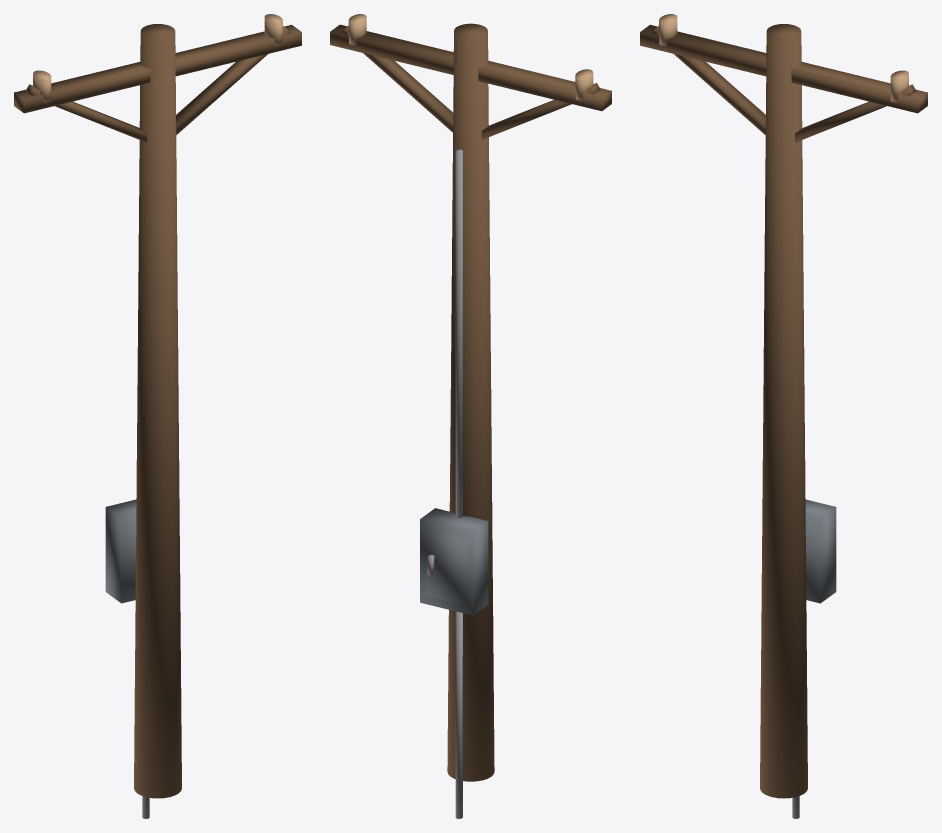
The model's file is pylon_with_box.glb.
3 renders of one model, left to right at view 1: azimuth 30°, elevation 25°; view 2: azimuth 150°, elevation 25°; view 3: azimuth 330°, elevation 25°, orthographic. The views are drawn at different scales.
Parts seen in each view (by area): view 1: _EXP_Pole_Box, _EXP_Crossarm_Box, _EXP_Box_Body, _EXP_Brace_R_Box, _EXP_Brace_L_Box; view 2: _EXP_Pole_Box, _EXP_Crossarm_Box, _EXP_Box_Body, _EXP_Box_Conduit, _EXP_Box_Door, _EXP_Box_Conduit_Ground, _EXP_Brace_R_Box, _EXP_Brace_L_Box; view 3: _EXP_Pole_Box, _EXP_Crossarm_Box, _EXP_Box_Body, _EXP_Brace_L_Box, _EXP_Brace_R_Box.
Part boxes in pixels (x1,y1,x2,y2): _EXP_Pole_Box: (134,24,181,798); _EXP_Crossarm_Box: (14,24,301,113); _EXP_Box_Body: (105,499,136,603); _EXP_Brace_R_Box: (176,26,289,134); _EXP_Brace_L_Box: (25,84,146,142); _EXP_Pole_Box: (447,23,494,781); _EXP_Crossarm_Box: (330,24,611,111); _EXP_Box_Body: (420,508,488,615); _EXP_Box_Conduit: (455,149,462,517); _EXP_Box_Door: (425,529,467,605); _EXP_Box_Conduit_Ground: (455,611,462,818); _EXP_Brace_R_Box: (341,25,453,132); _EXP_Brace_L_Box: (481,83,600,139); _EXP_Pole_Box: (760,24,807,798); _EXP_Crossarm_Box: (640,24,927,113); _EXP_Box_Body: (805,499,836,603); _EXP_Brace_L_Box: (652,26,765,134); _EXP_Brace_R_Box: (795,84,916,142).
Size of the model in its own units: 1.54 by 4.2 by 0.3802.
